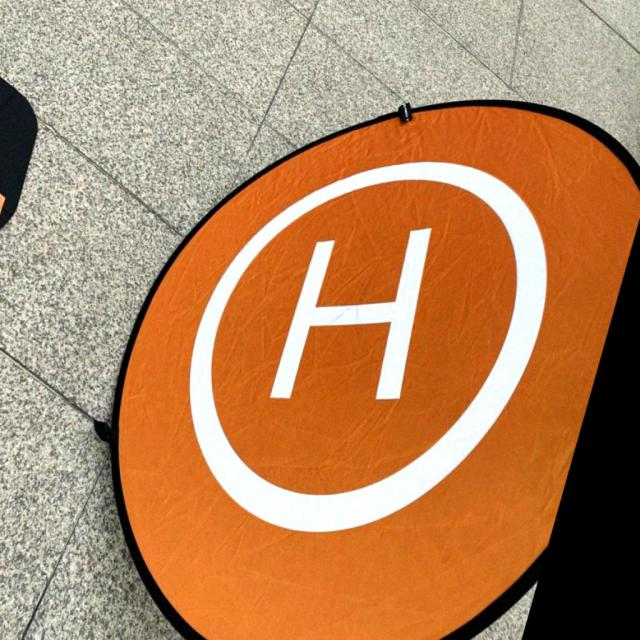helipad: (182, 153, 549, 538)
